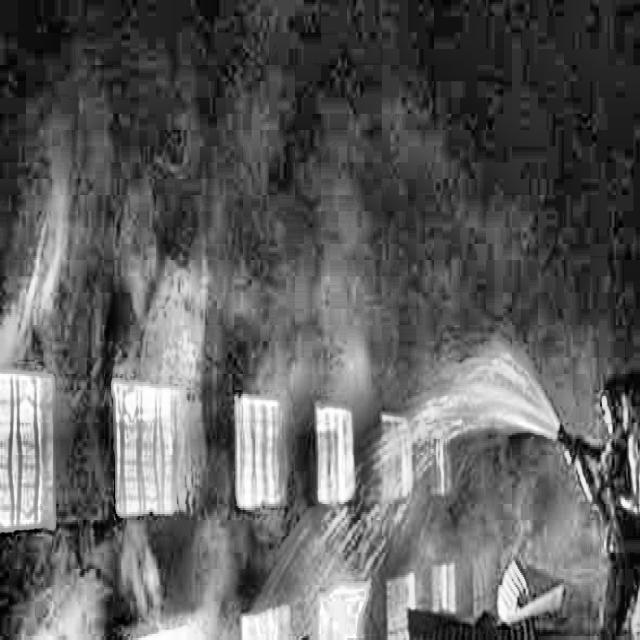fire: (2, 202, 536, 640)
